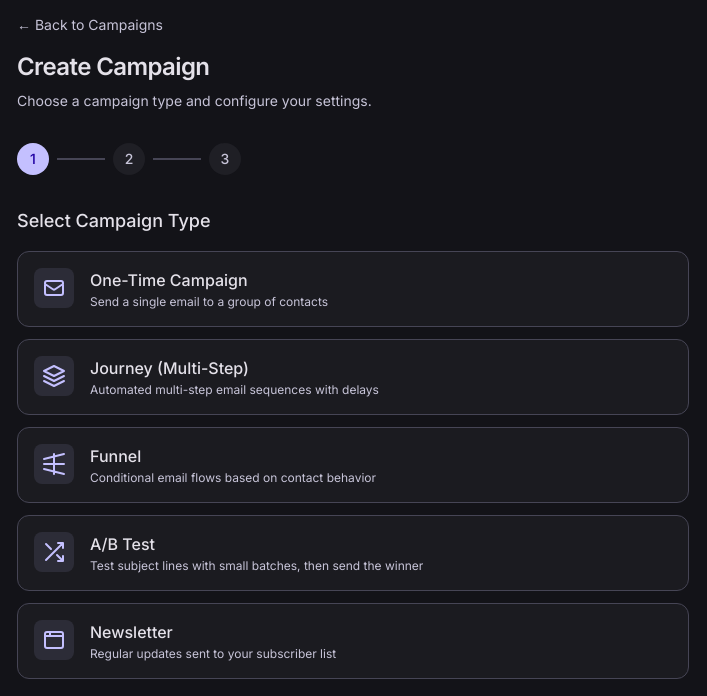
Test: NewCampaignPage › shows an error when the response is missing a campaign id
Step 1. Click the button "Newsletter Regular updates sent to your subscriber list" → [54, 640], box [17,603,689,679]
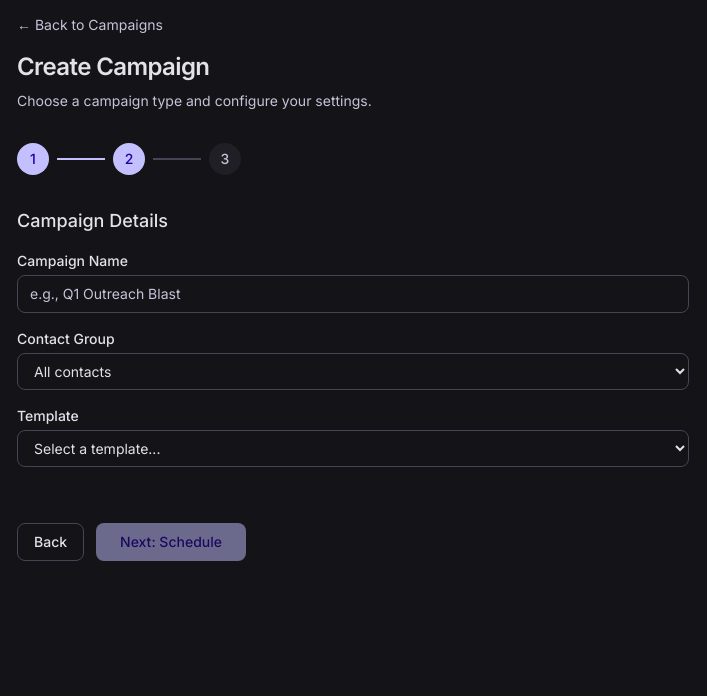
Step 2. Type "Newsletter" into the field labelled "Campaign Name" → [353, 294], box [17,275,689,313]
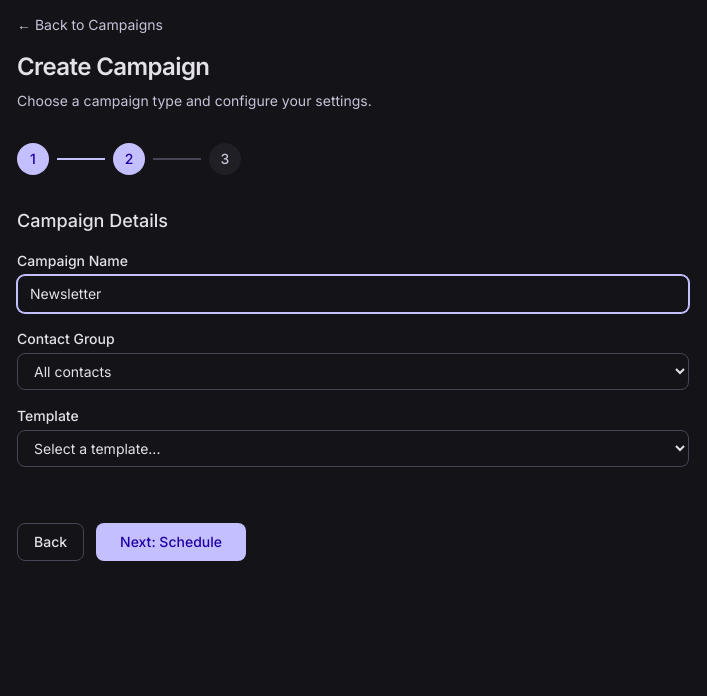
Step 3. Click the button "Next: Schedule" → [171, 542], box [96,523,246,561]
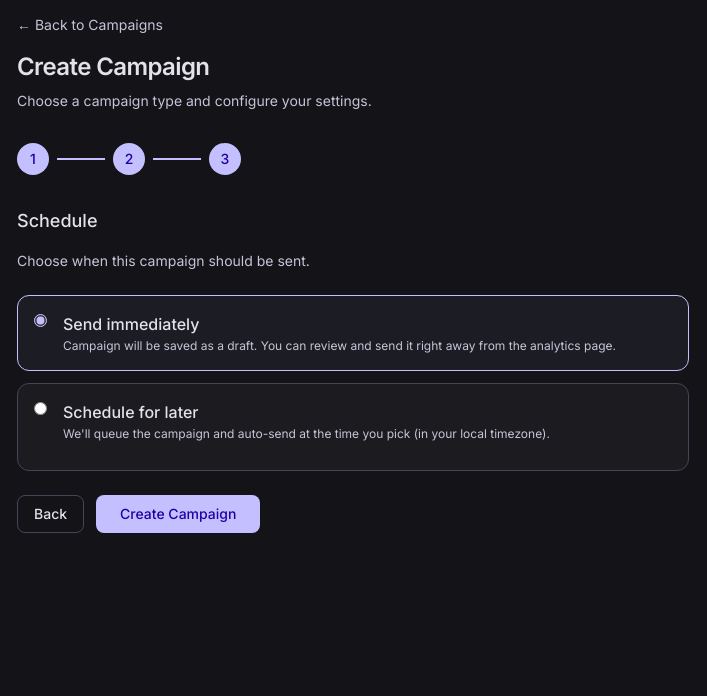
Step 4. Click the button "Create Campaign" → [178, 514], box [96,495,260,533]
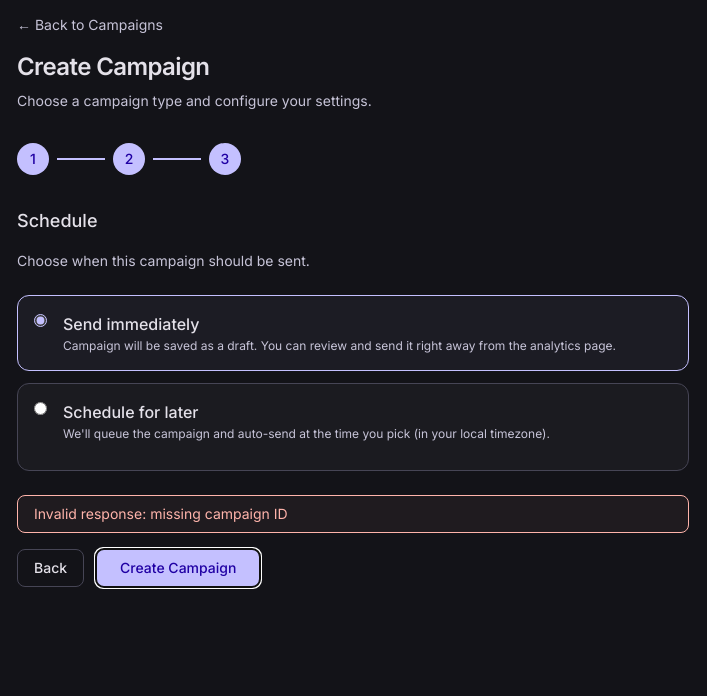
Result: the text "Invalid response: missing campaign ID" is shown at [17,495,689,533]
